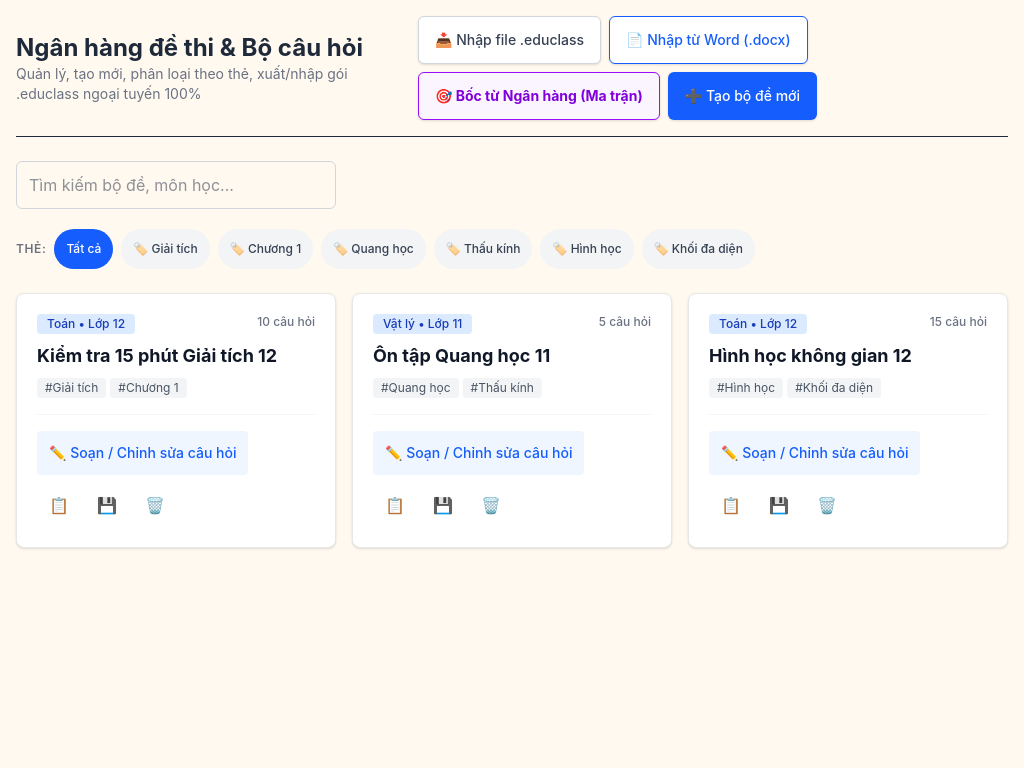
Test: QuestionBankTab UI Component (apps/teacher-ui) › opens Word import modal when clicking Word import button
Click the button with test id "btn-open-word-import" at (708, 40), box [609,16,808,64]
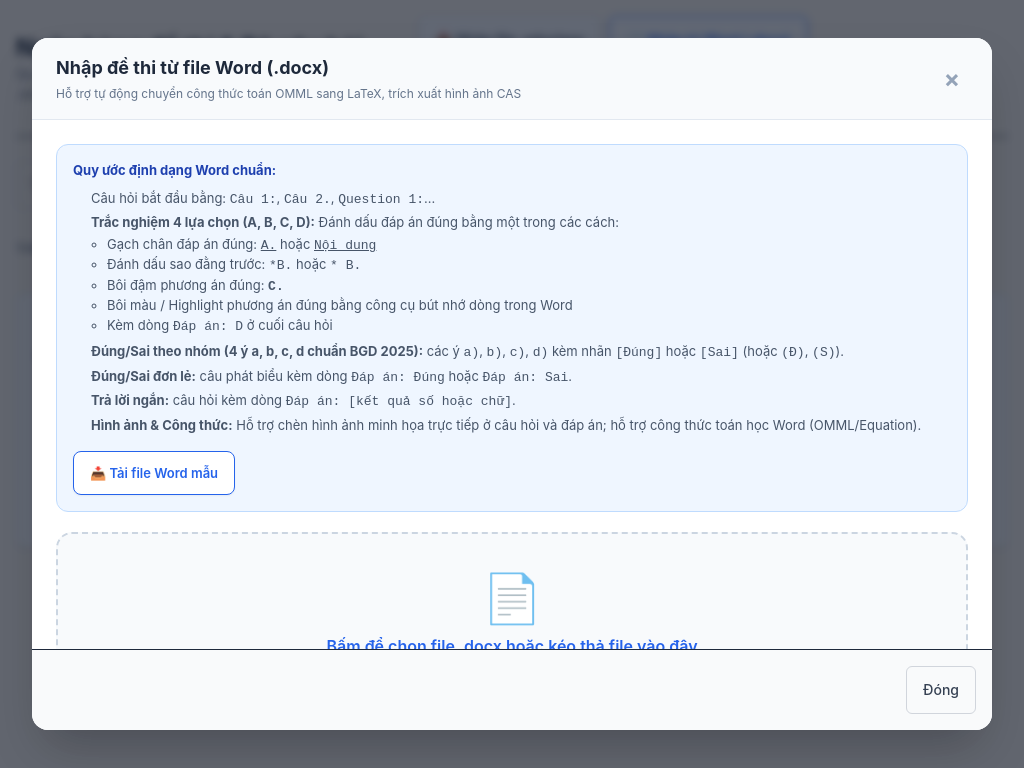
Expected: the heading "Nhập đề thi từ file Word (.docx)" is shown, [56,57,329,78]
Expected: the text "Hỗ trợ tự động chuyển công thức toán OMML sang LaTeX" is shown, [56,86,521,101]
